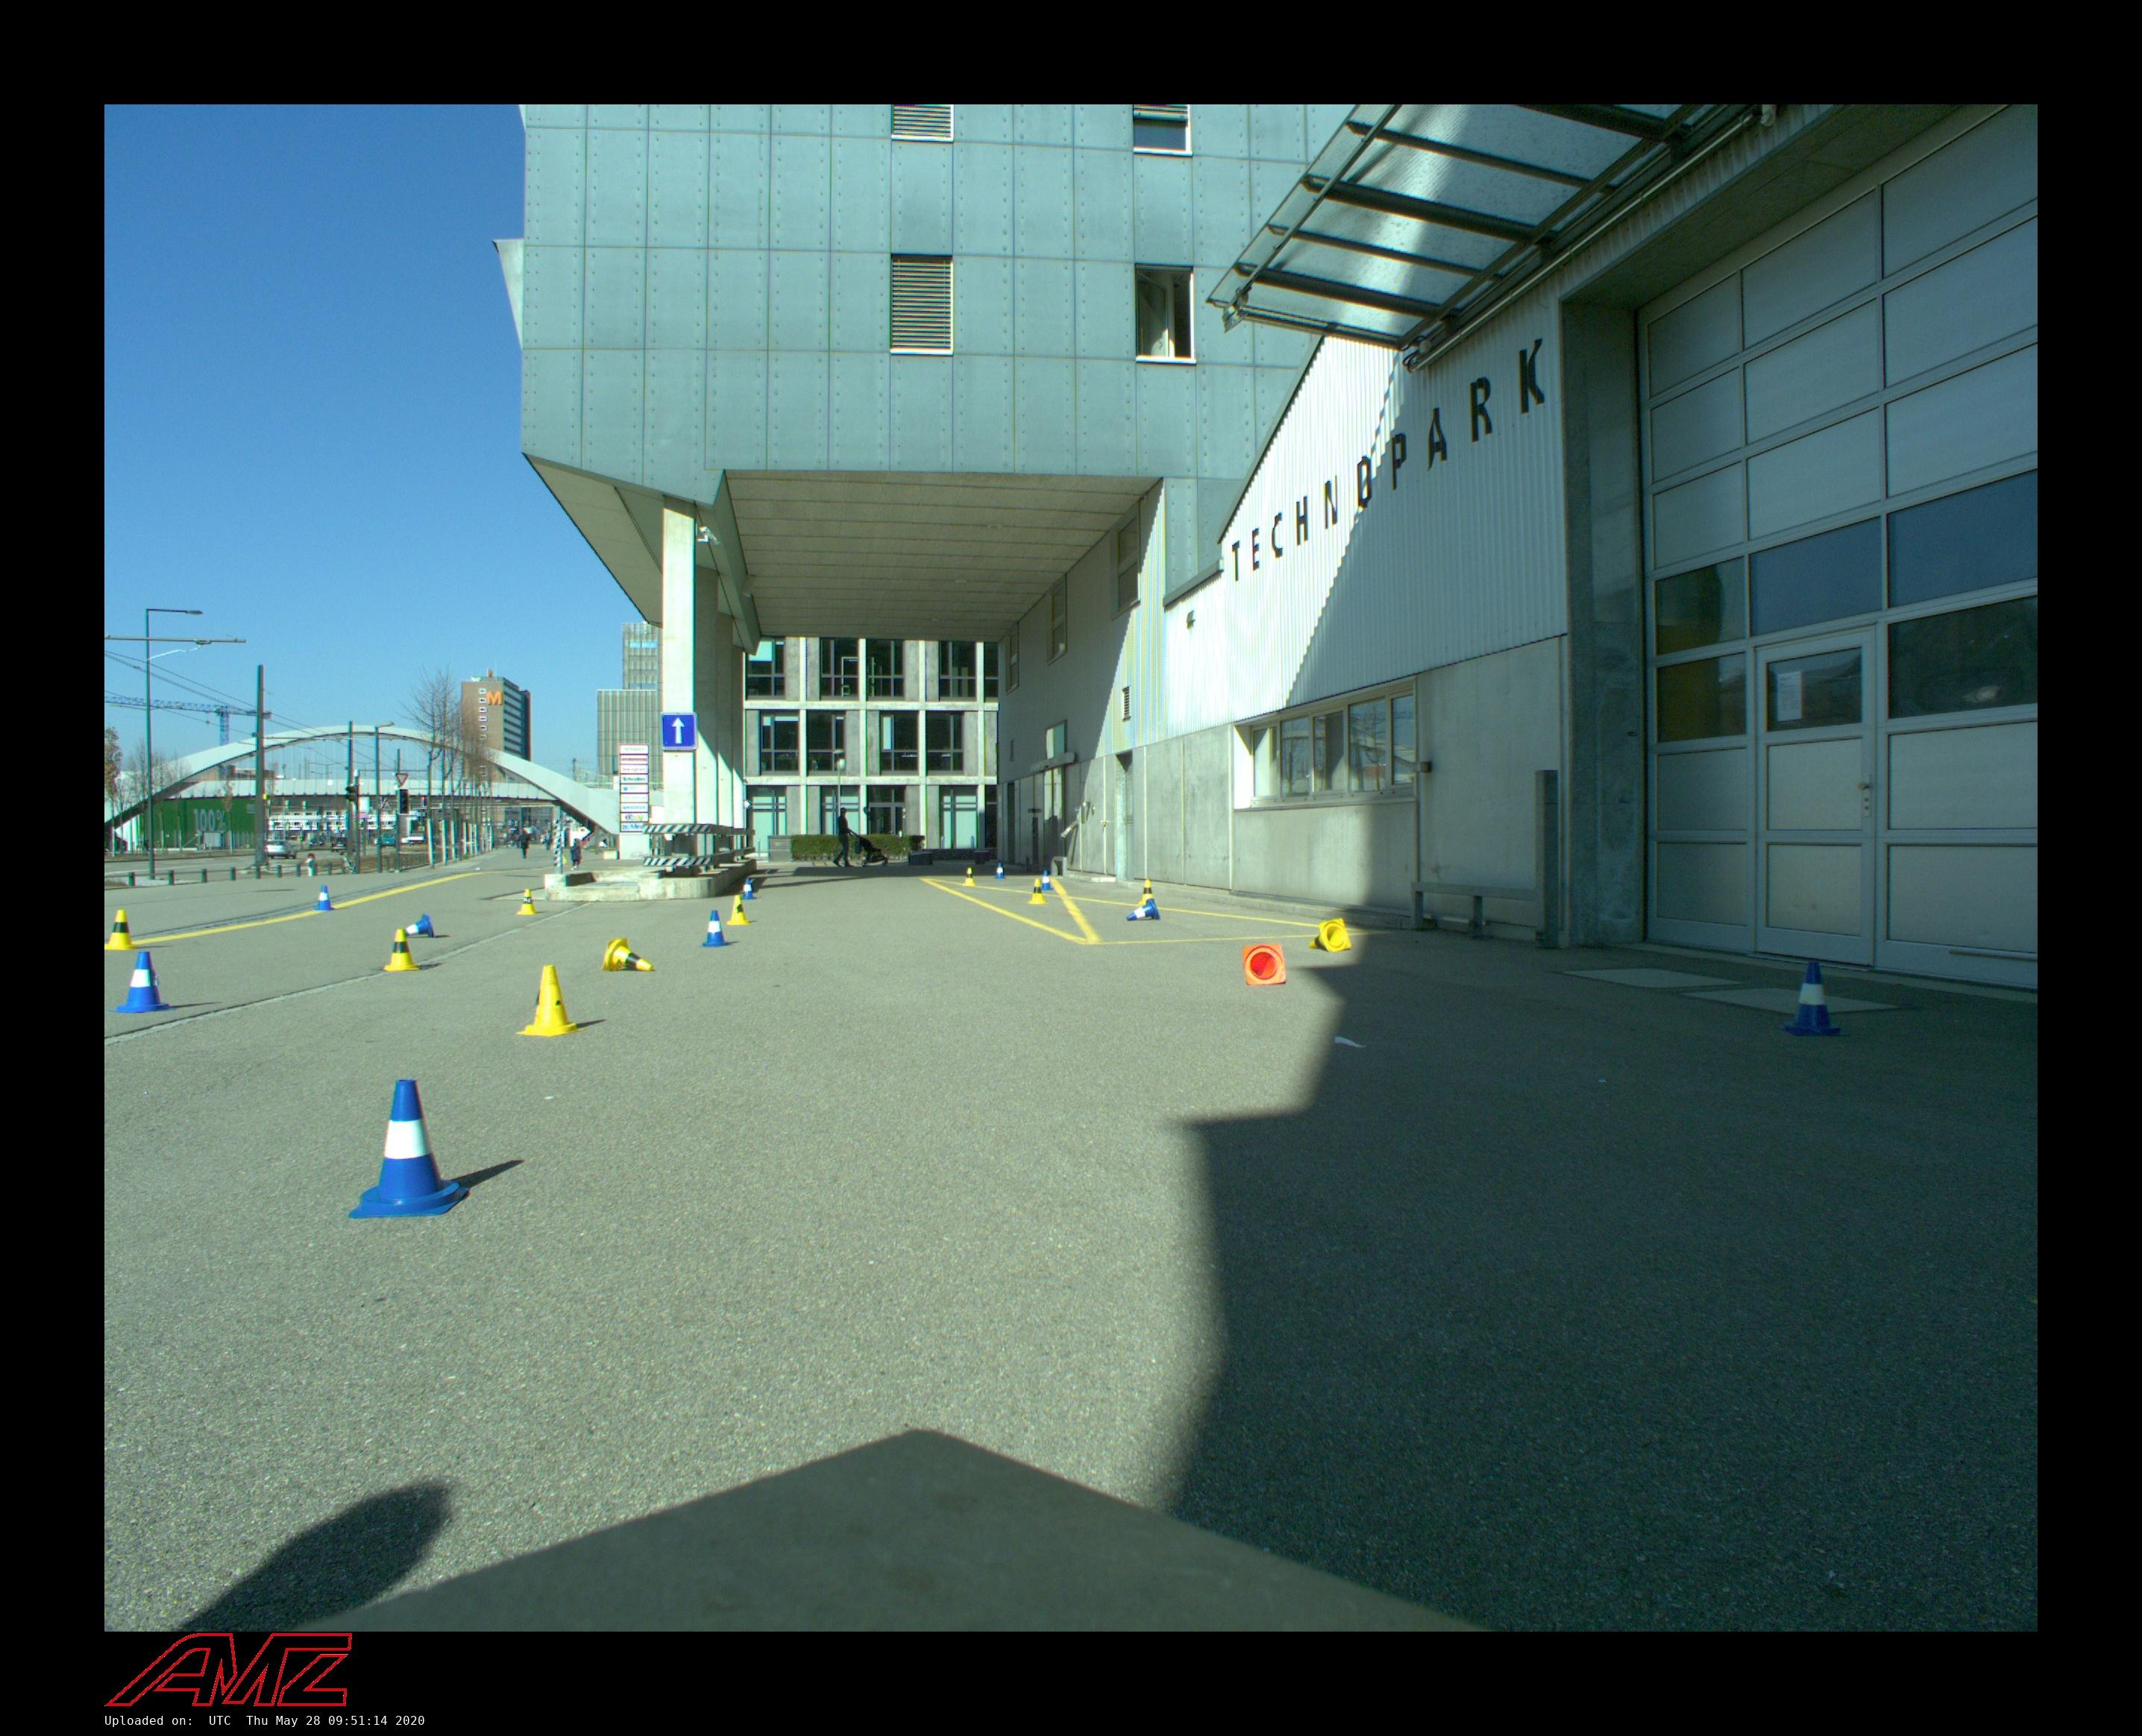blue_cone: (349, 1077, 470, 1217), (1782, 962, 1841, 1036), (108, 951, 175, 1013), (700, 911, 730, 948), (397, 914, 434, 939), (1127, 898, 1160, 921), (314, 886, 335, 911), (741, 877, 757, 900), (1040, 870, 1052, 891), (994, 863, 1006, 879)
orange_cone: (1242, 944, 1286, 987)
yellow_cone: (516, 965, 585, 1036), (602, 939, 654, 973), (383, 930, 420, 971), (1309, 918, 1352, 951), (105, 909, 136, 949), (726, 896, 751, 925), (516, 889, 539, 916), (1139, 880, 1159, 905), (1029, 879, 1047, 903), (962, 868, 976, 886)
